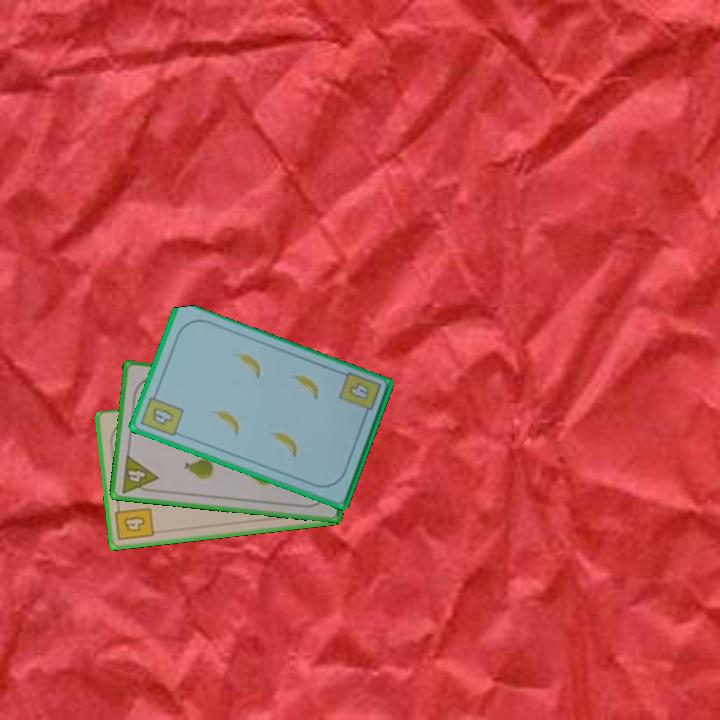4b: (137, 388, 187, 440), (335, 369, 384, 422), (112, 500, 157, 544)
4p: (118, 451, 161, 496)
